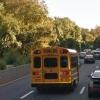Bus: (23, 43, 81, 90)
